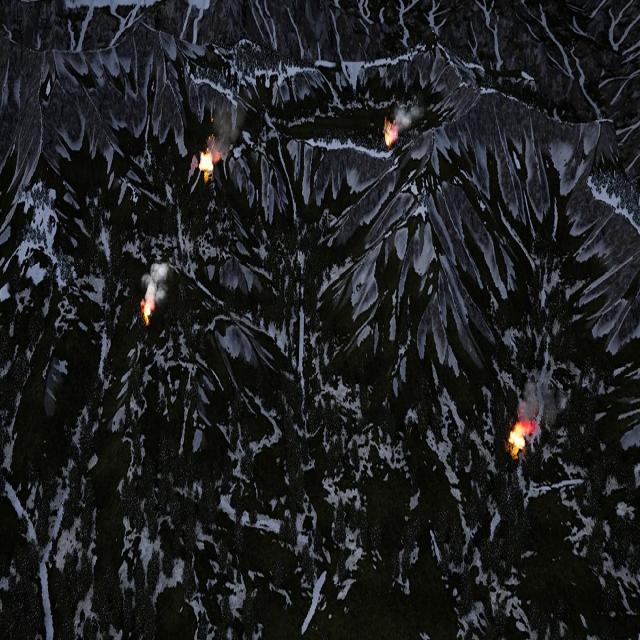fire: (510, 422, 528, 452), (200, 150, 217, 176), (141, 298, 154, 326), (385, 124, 397, 147)
smoke: (520, 374, 565, 429), (209, 99, 249, 158), (141, 262, 170, 304), (393, 99, 424, 130)
